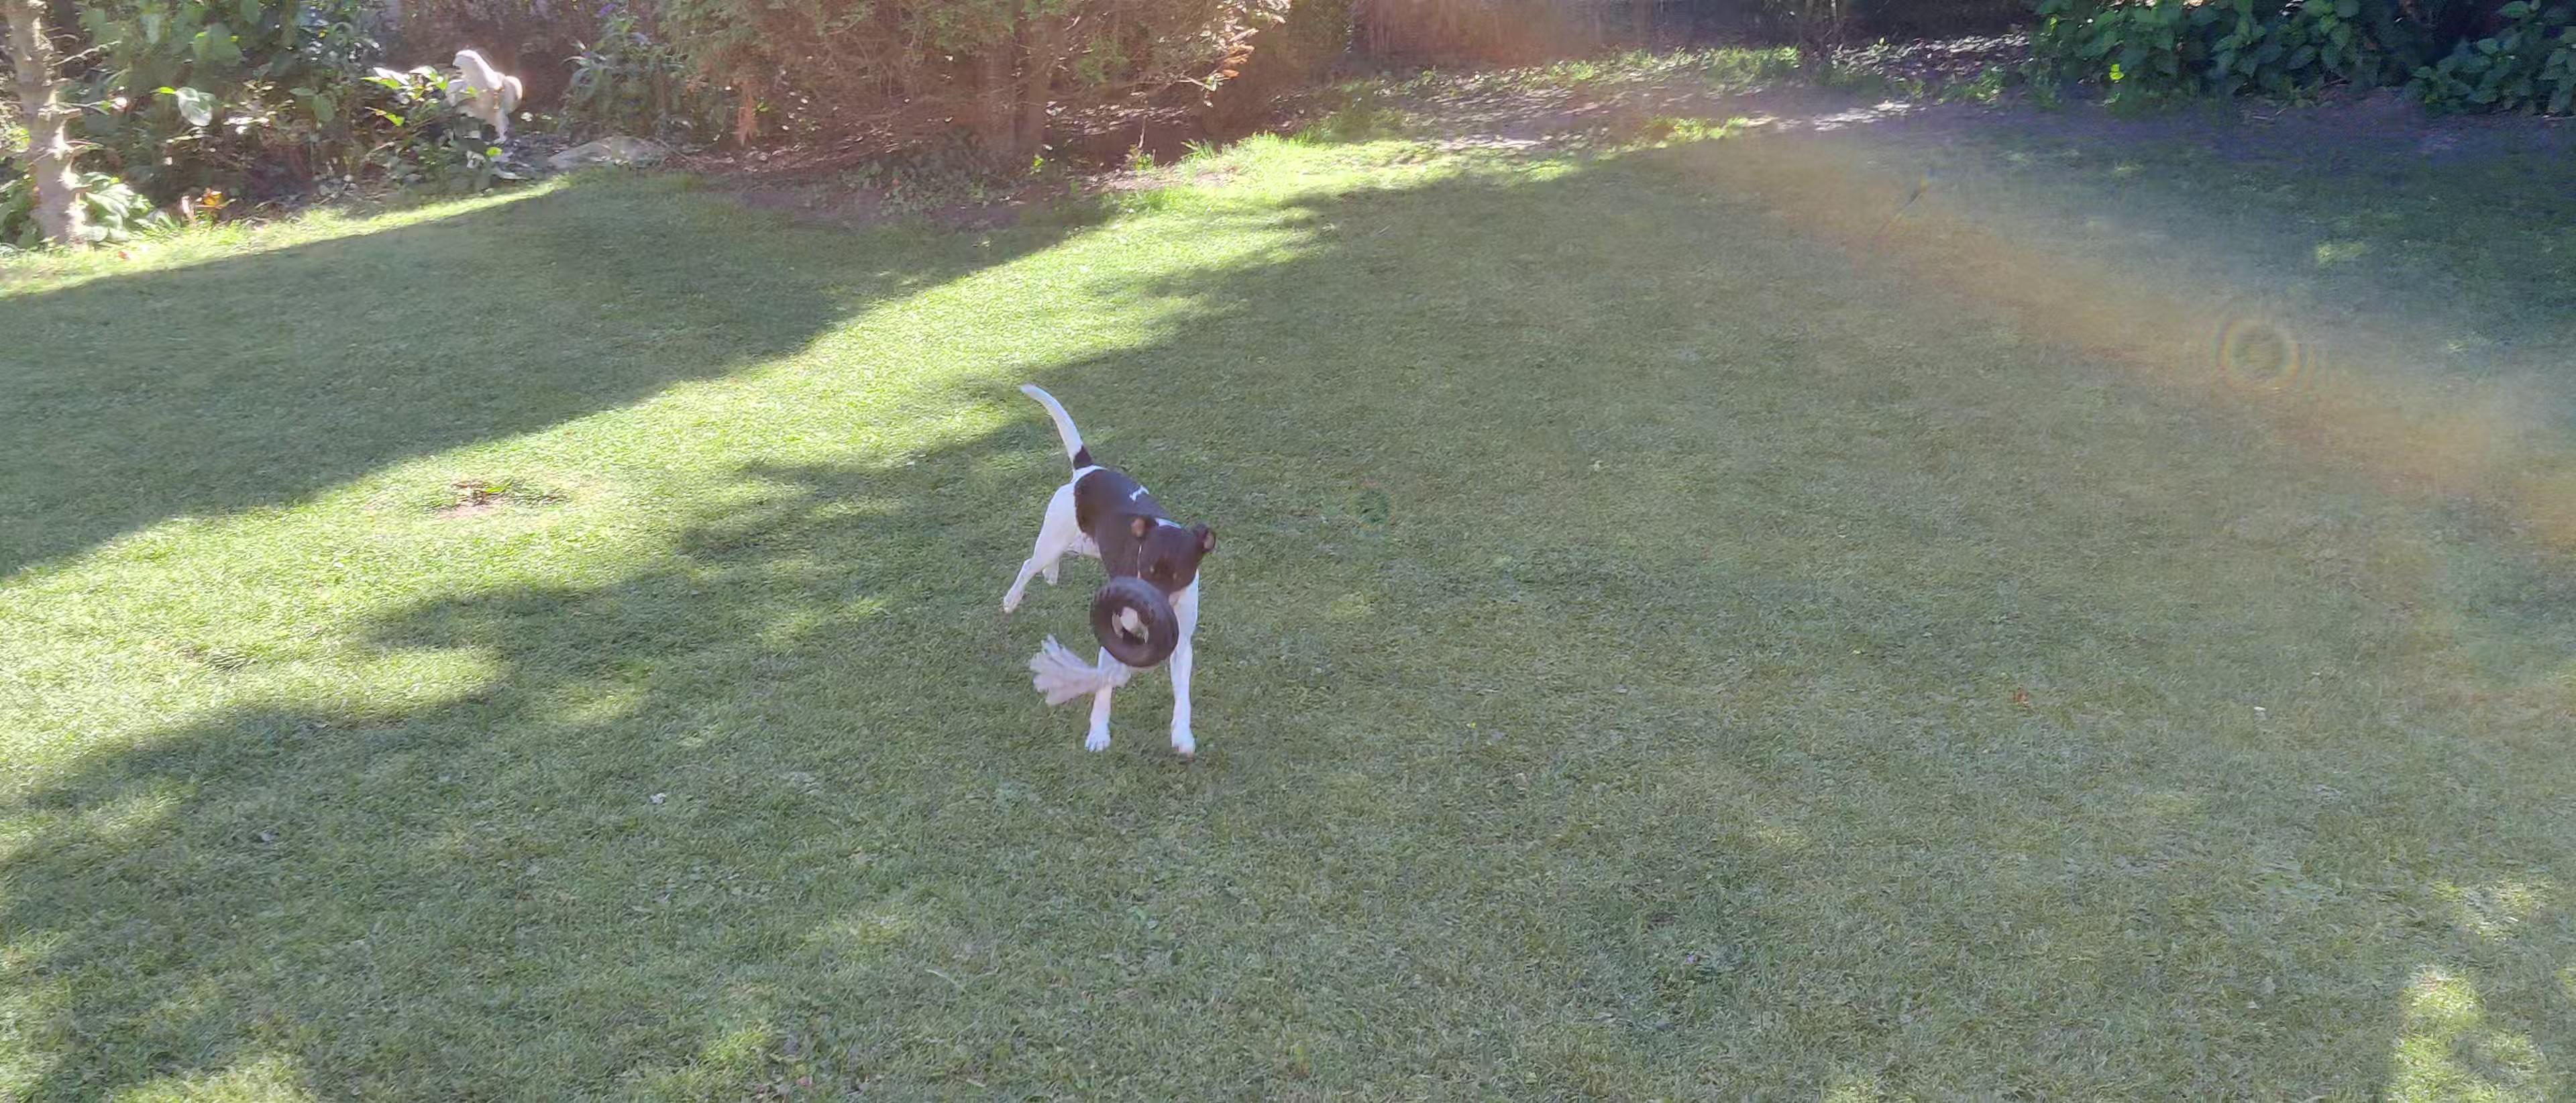Dog: (982, 363, 1230, 771)
